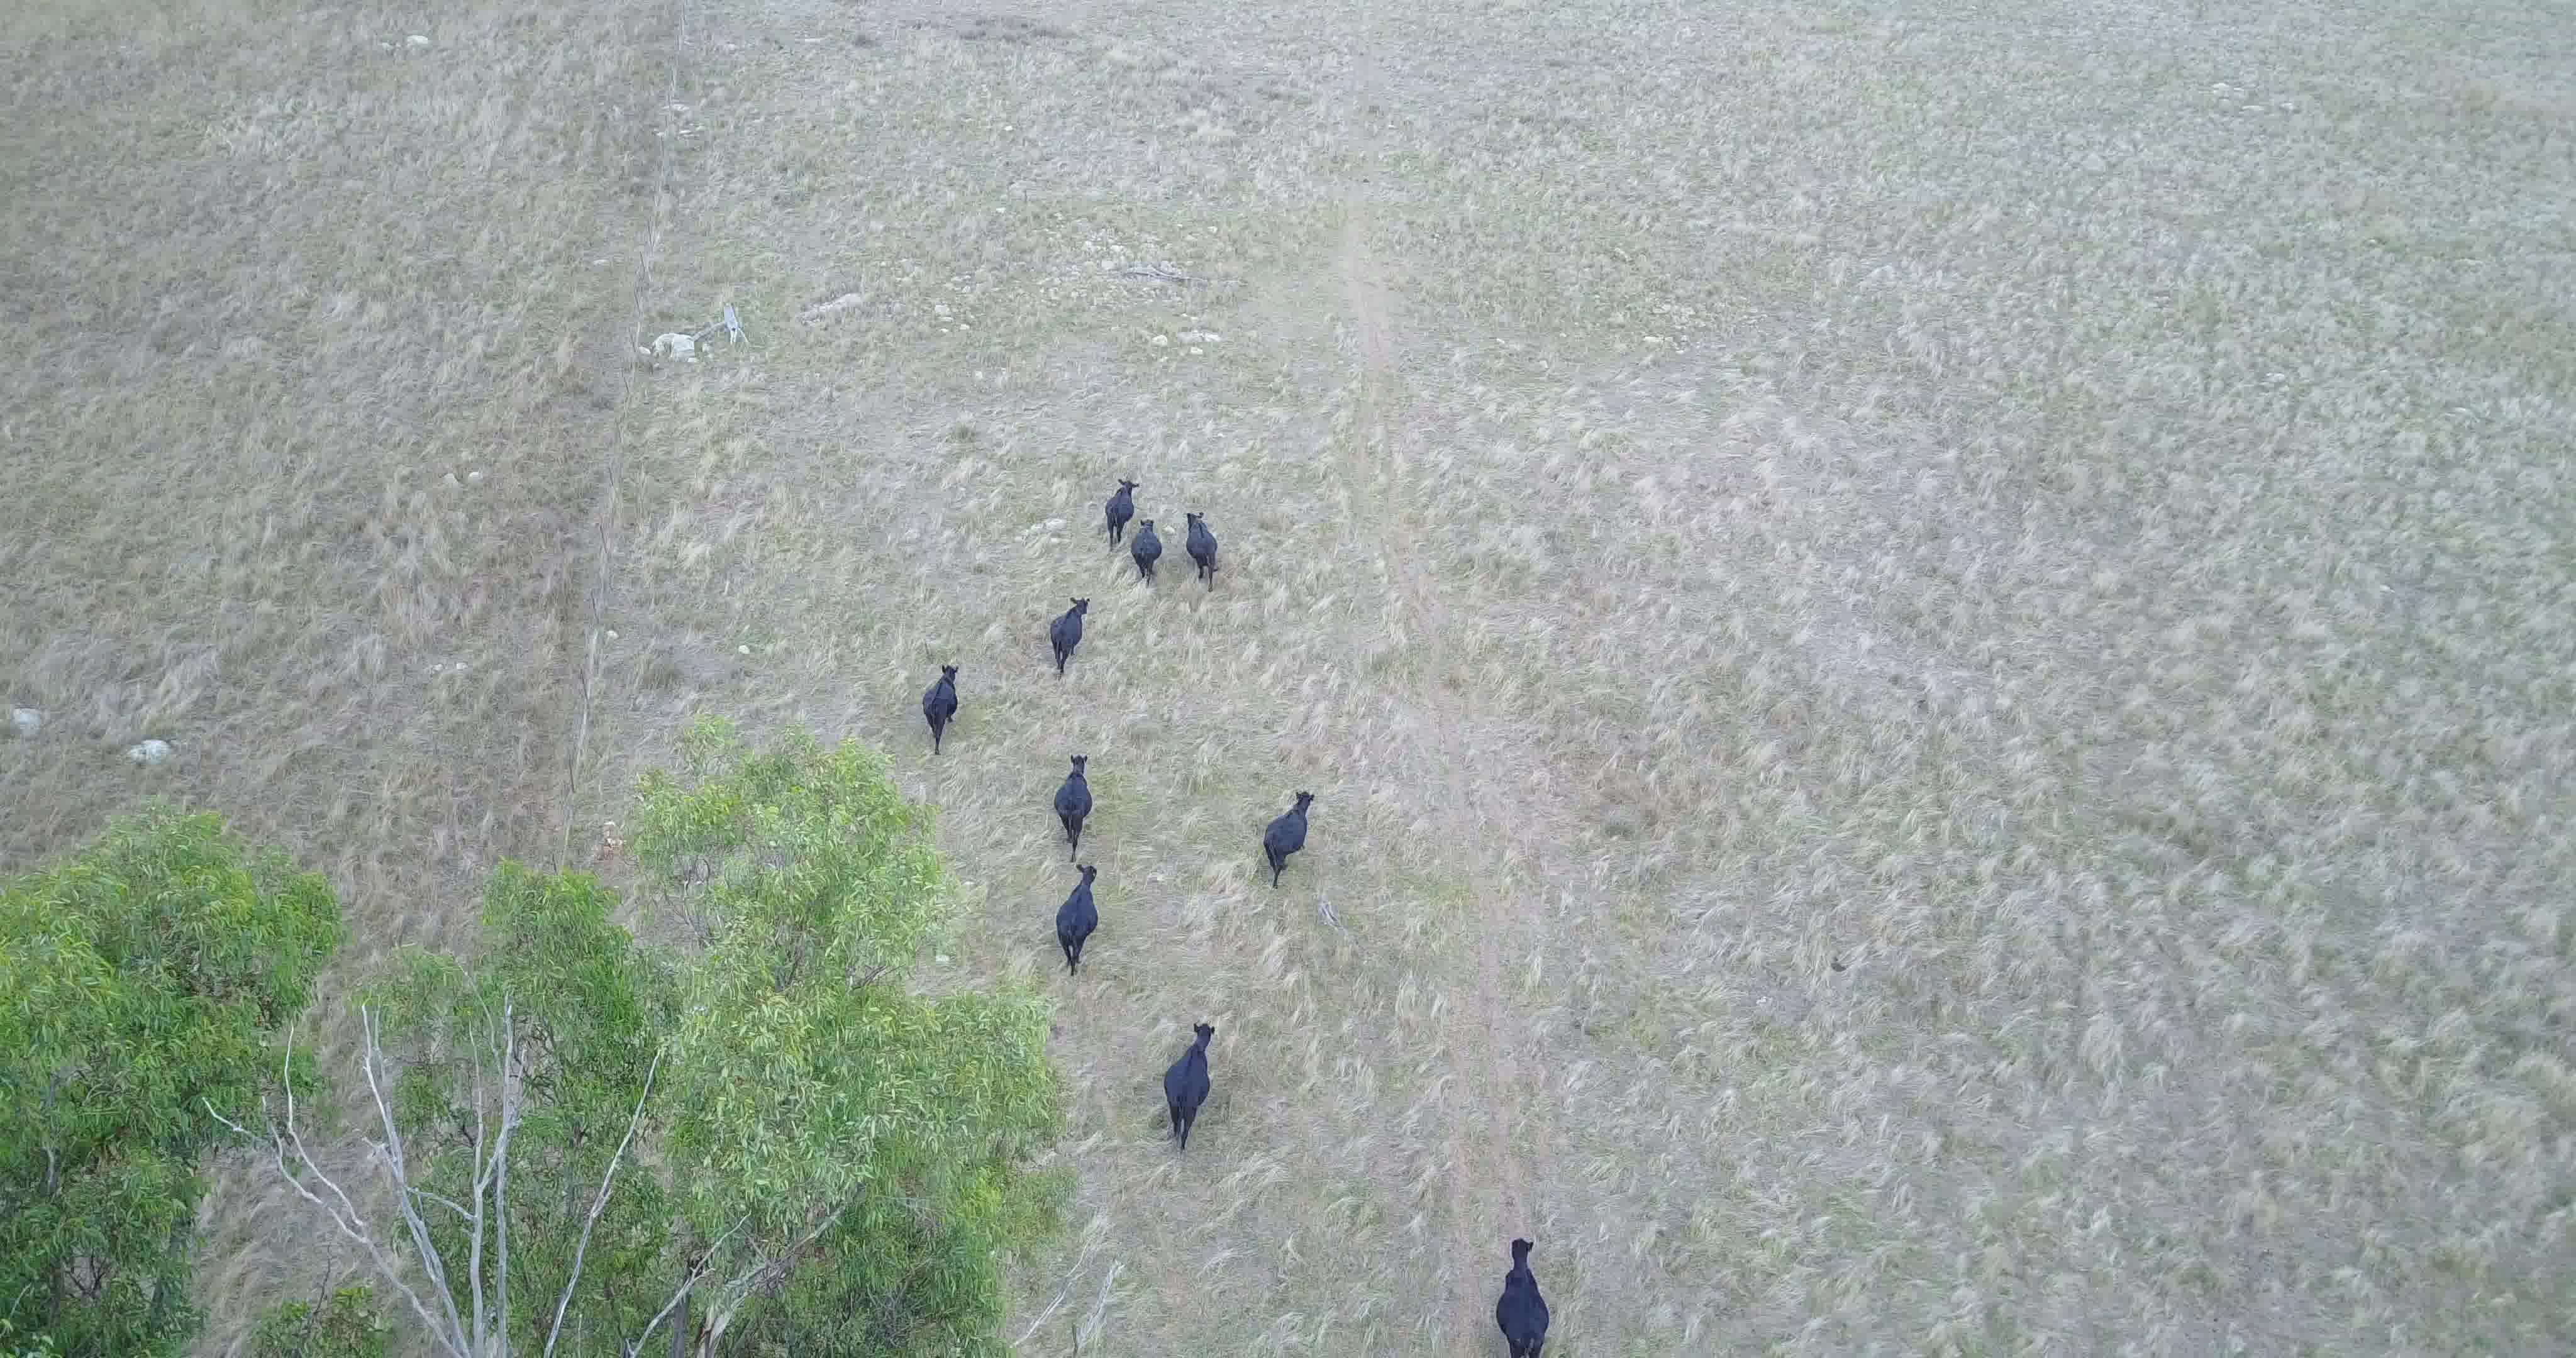cattle: (1491, 1234, 1555, 1358), (1160, 1016, 1216, 1154), (1051, 860, 1101, 981), (1053, 750, 1102, 864), (1261, 787, 1315, 889), (918, 661, 959, 757), (1048, 595, 1092, 680), (1182, 509, 1223, 593), (1102, 475, 1140, 540), (1130, 518, 1162, 590)
